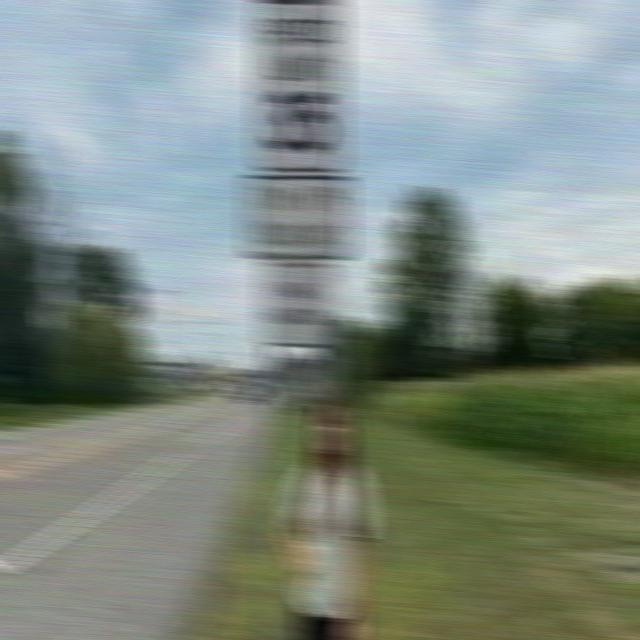speedLimit35: (253, 8, 342, 172)
